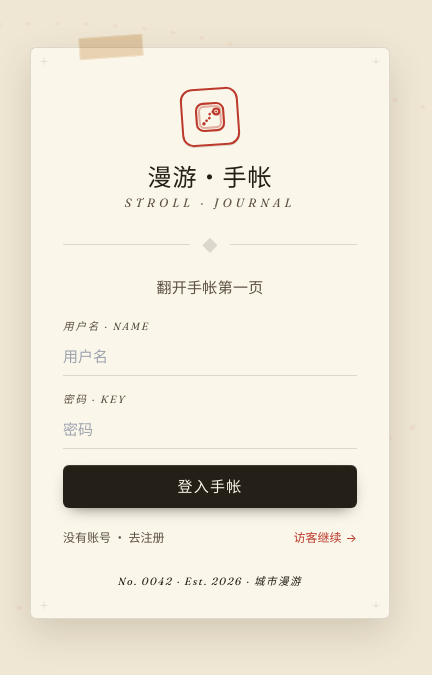
LoginView › shows the brand and a login error
The image size is (432, 675).
expect the heading "漫游·手帐" is shown: met, box [148,158,272,194]
In the field with placeholder "用户名": (210, 356) [63,337,357,376], type "ada"
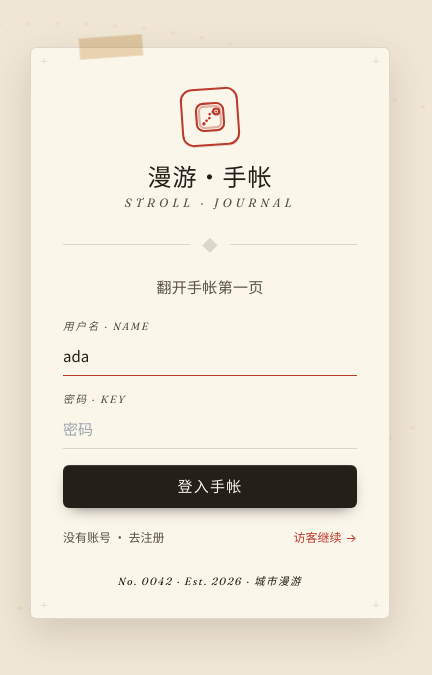
In the password field with placeholder "密码": (210, 430) [63,410,357,449], type "bad"
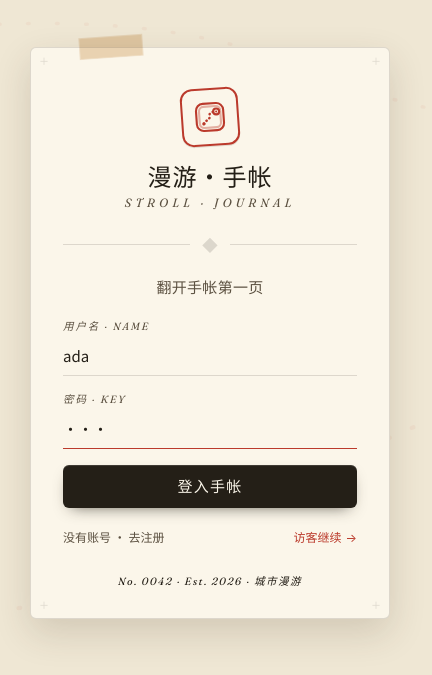
Click the button "登入手帐": (210, 487) [63,465,357,508]
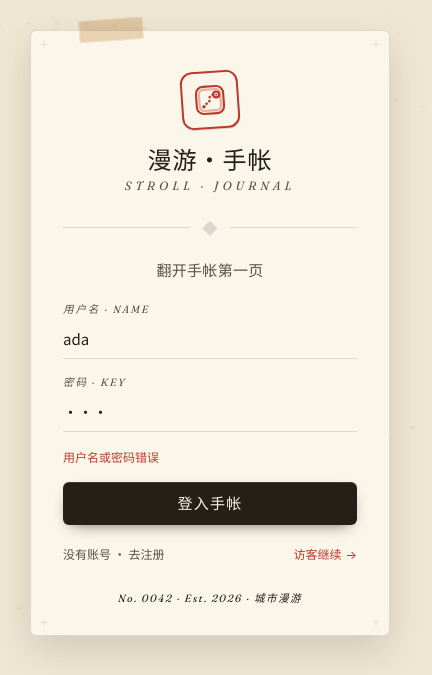
expect the text "用户名或密码错误" is shown: met, box [63,448,159,465]
